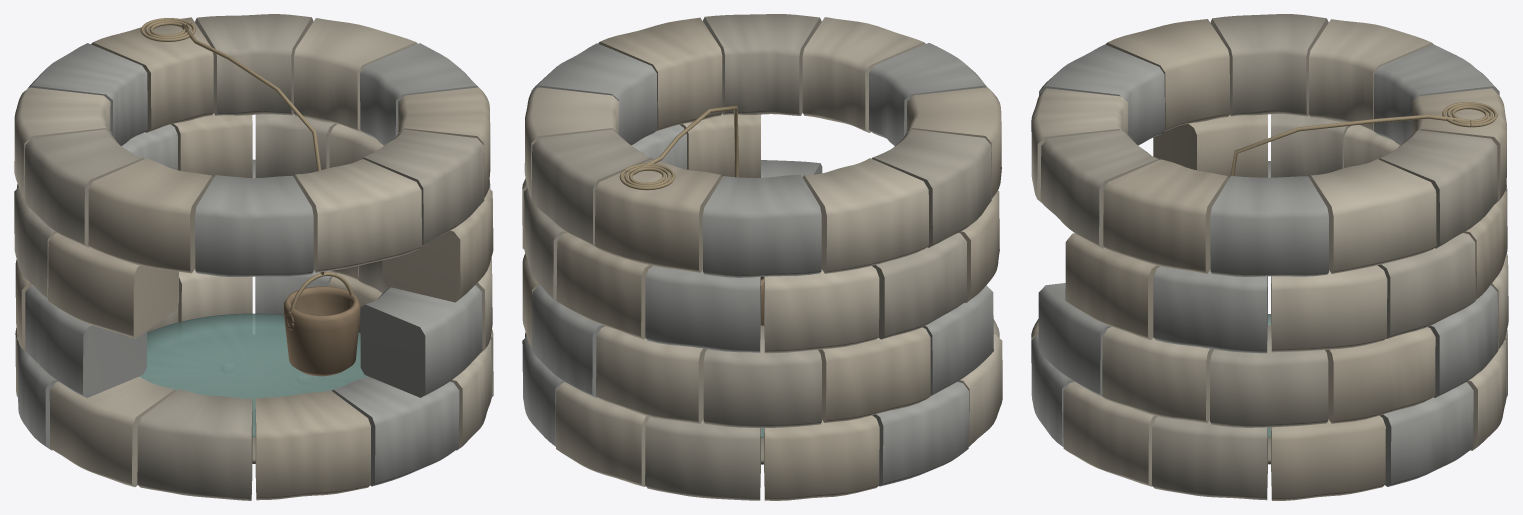
Rendered from abraham-well.glb.
The picture shows the model from 3 angles, left to right: view 1: azimuth 30°, elevation 25°; view 2: azimuth 150°, elevation 25°; view 3: azimuth 270°, elevation 25°; orthographic projection.
Parts seen in each view (by area): view 1: abraham-well-abraham-stone-warm-grey.002, abraham-well-abraham-stone-sand-grey.002, abraham-well-abraham-stone-cool-grey.002, abraham-well-abraham-stone-weathered-tan.002, abraham-well-abraham-stone-weathered-tan.001, abraham-well-abraham-stone-cool-grey.001, abraham-well-abraham-stone-sand-grey, abraham-well-abraham-stone-cool-grey, abraham-well-abraham-clean-water-comparison, abraham-well-abraham-stone-weathered-tan, abraham-well-abraham-stone-warm-grey, abraham-well-abraham-stone-warm-grey.001 (+3 smaller); view 2: abraham-well-abraham-stone-warm-grey.002, abraham-well-abraham-stone-cool-grey.002, abraham-well-abraham-stone-sand-grey.002, abraham-well-abraham-stone-weathered-tan.001, abraham-well-abraham-stone-weathered-tan.002, abraham-well-abraham-stone-cool-grey.001, abraham-well-abraham-stone-warm-grey.001, abraham-well-abraham-stone-sand-grey.001, abraham-well-abraham-stone-sand-grey, abraham-well-abraham-stone-cool-grey, abraham-well-abraham-stone-warm-grey, abraham-well-abraham-stone-weathered-tan (+1 smaller); view 3: abraham-well-abraham-stone-warm-grey.002, abraham-well-abraham-stone-sand-grey.002, abraham-well-abraham-stone-weathered-tan.001, abraham-well-abraham-stone-cool-grey.002, abraham-well-abraham-stone-weathered-tan.002, abraham-well-abraham-stone-warm-grey.001, abraham-well-abraham-stone-sand-grey.001, abraham-well-abraham-stone-cool-grey.001, abraham-well-abraham-stone-sand-grey, abraham-well-abraham-stone-cool-grey, abraham-well-abraham-stone-warm-grey, abraham-well-abraham-stone-weathered-tan (+1 smaller).
Boxes of the visible parts, left/top/right/bottom form: abraham-well-abraham-stone-warm-grey.002: left=24, top=14, right=484, bottom=247; abraham-well-abraham-stone-sand-grey.002: left=14, top=18, right=421, bottom=272; abraham-well-abraham-stone-cool-grey.002: left=27, top=43, right=482, bottom=276; abraham-well-abraham-stone-weathered-tan.002: left=88, top=17, right=490, bottom=273; abraham-well-abraham-stone-weathered-tan.001: left=15, top=113, right=493, bottom=351; abraham-well-abraham-stone-cool-grey.001: left=25, top=124, right=490, bottom=397; abraham-well-abraham-stone-sand-grey: left=49, top=269, right=491, bottom=486; abraham-well-abraham-stone-cool-grey: left=17, top=270, right=459, bottom=486; abraham-well-abraham-clean-water-comparison: left=139, top=313, right=368, bottom=436; abraham-well-abraham-stone-weathered-tan: left=15, top=273, right=382, bottom=500; abraham-well-abraham-stone-warm-grey: left=137, top=305, right=493, bottom=500; abraham-well-abraham-stone-warm-grey.001: left=14, top=113, right=390, bottom=298; abraham-well-abraham-stone-warm-grey.002: left=531, top=14, right=991, bottom=247; abraham-well-abraham-stone-cool-grey.002: left=531, top=43, right=986, bottom=277; abraham-well-abraham-stone-sand-grey.002: left=524, top=17, right=928, bottom=273; abraham-well-abraham-stone-weathered-tan.001: left=522, top=113, right=999, bottom=422; abraham-well-abraham-stone-weathered-tan.002: left=595, top=17, right=1001, bottom=272; abraham-well-abraham-stone-cool-grey.001: left=532, top=124, right=993, bottom=397; abraham-well-abraham-stone-warm-grey.001: left=524, top=188, right=967, bottom=427; abraham-well-abraham-stone-sand-grey.001: left=522, top=179, right=879, bottom=423; abraham-well-abraham-stone-sand-grey: left=556, top=334, right=1002, bottom=486; abraham-well-abraham-stone-cool-grey: left=522, top=336, right=968, bottom=486; abraham-well-abraham-stone-warm-grey: left=645, top=319, right=999, bottom=500; abraham-well-abraham-stone-weathered-tan: left=525, top=332, right=879, bottom=500; abraham-well-abraham-stone-warm-grey.002: left=1040, top=14, right=1497, bottom=248; abraham-well-abraham-stone-sand-grey.002: left=1031, top=19, right=1436, bottom=273; abraham-well-abraham-stone-weathered-tan.001: left=1065, top=114, right=1507, bottom=423; abraham-well-abraham-stone-cool-grey.002: left=1039, top=44, right=1499, bottom=276; abraham-well-abraham-stone-weathered-tan.002: left=1103, top=19, right=1506, bottom=273; abraham-well-abraham-stone-warm-grey.001: left=1210, top=114, right=1475, bottom=427; abraham-well-abraham-stone-sand-grey.001: left=1102, top=125, right=1508, bottom=423; abraham-well-abraham-stone-cool-grey.001: left=1038, top=161, right=1507, bottom=397; abraham-well-abraham-stone-sand-grey: left=1063, top=340, right=1506, bottom=486; abraham-well-abraham-stone-cool-grey: left=1031, top=334, right=1473, bottom=486; abraham-well-abraham-stone-warm-grey: left=1152, top=329, right=1507, bottom=500; abraham-well-abraham-stone-weathered-tan: left=1031, top=319, right=1385, bottom=500.
Bounding box in the file's own units: 1.14 × 0.787 × 1.14.
